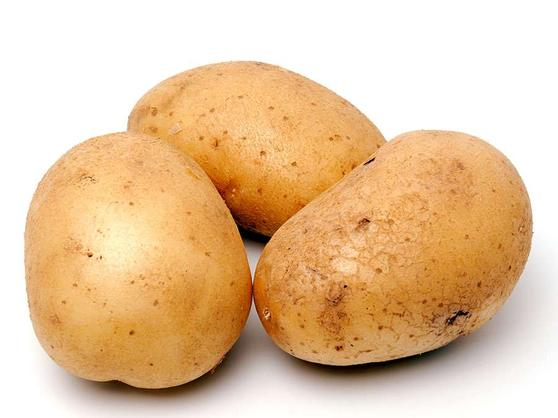potato: (260, 116, 537, 377), (22, 131, 256, 392)
